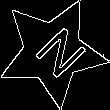N_SW: (20, 20, 85, 84)
